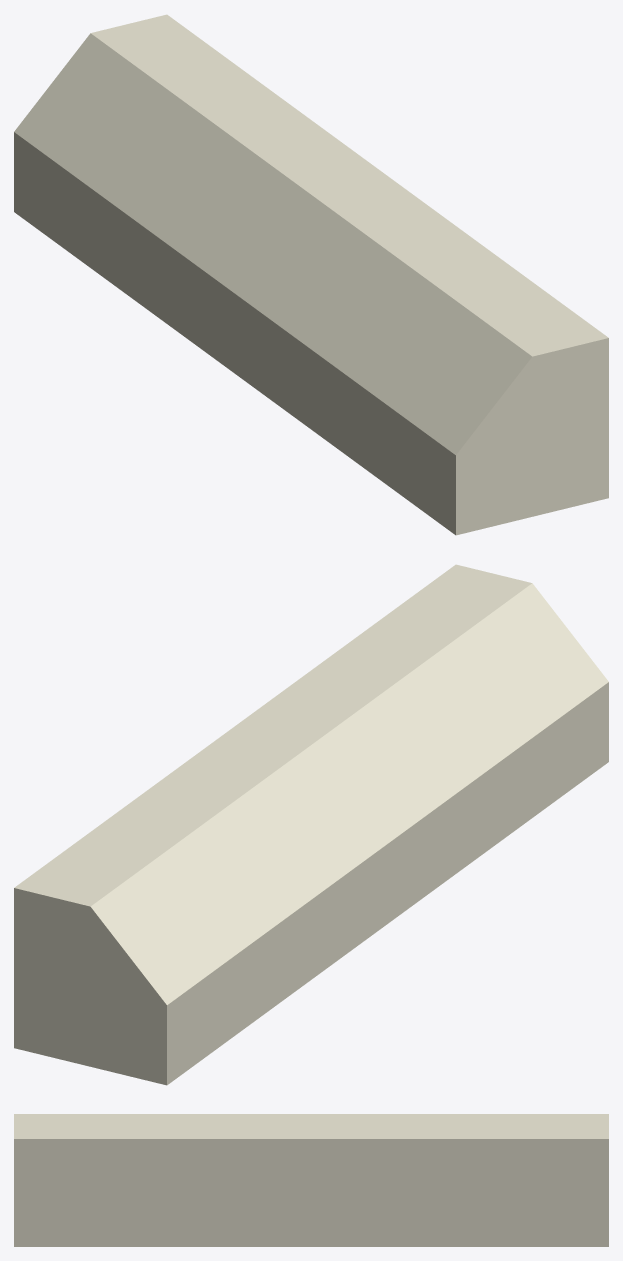
File: Shape_Trim.glb
The picture shows the model from 3 angles, top to bottom: view 1: azimuth 30°, elevation 25°; view 2: azimuth 150°, elevation 25°; view 3: azimuth 270°, elevation 25°; orthographic projection. The views are drawn at different scales.
Parts seen in each view (by area): view 1: Shape_Trim; view 2: Shape_Trim; view 3: Shape_Trim.
Boxes of the visible parts, box(x1,y1,x2,y2) form: Shape_Trim: box(14, 14, 608, 535); Shape_Trim: box(14, 564, 608, 1085); Shape_Trim: box(14, 1114, 608, 1246).
Size of the model in its own units: 0.2 by 0.2 by 1.
